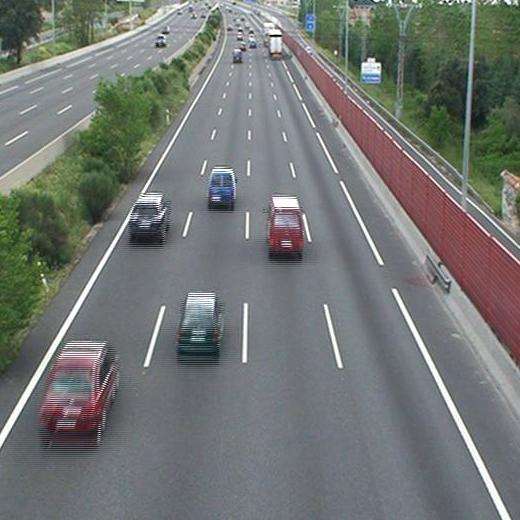car: (42, 344, 118, 432), (180, 294, 220, 350), (129, 196, 168, 237)
truck: (268, 29, 282, 58)
van: (267, 196, 304, 252), (207, 169, 236, 206), (233, 50, 242, 62)
